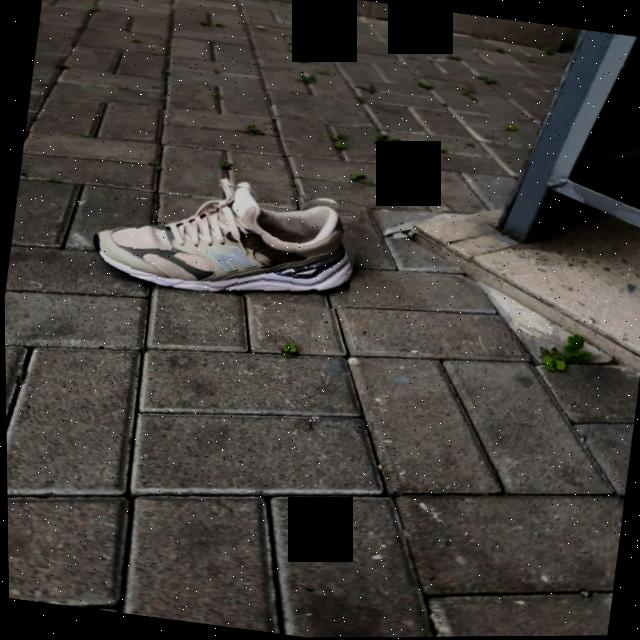shoe: (92, 185, 351, 292)
